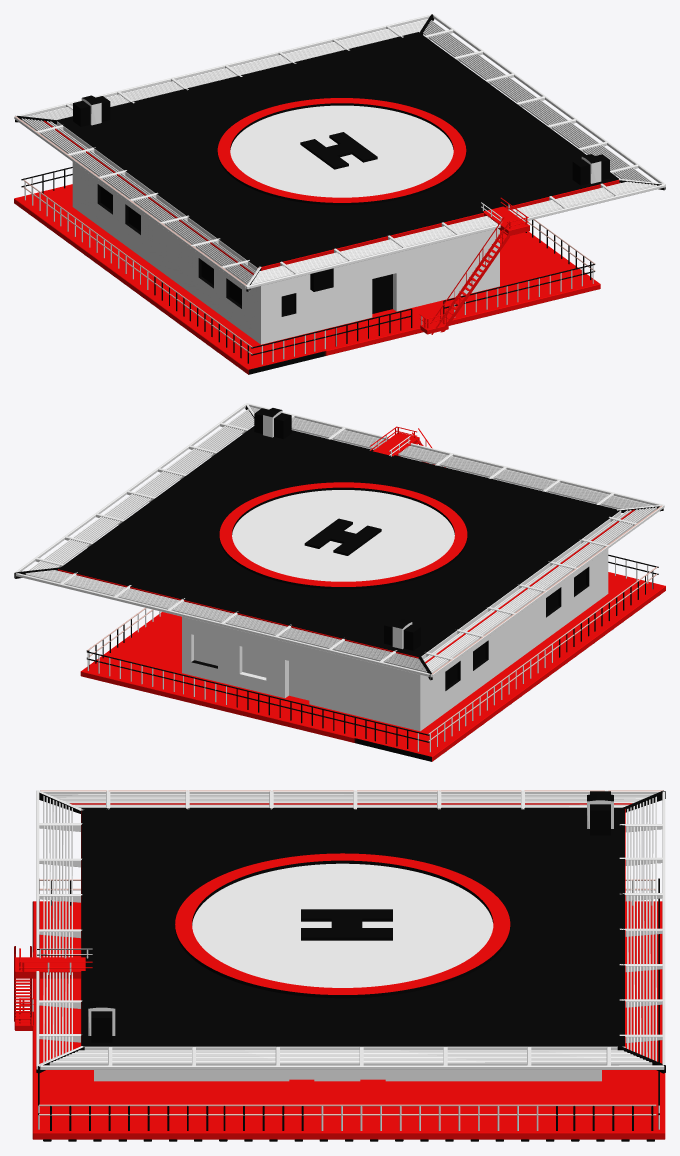
3 renders of one model, top to bottom at view 1: azimuth 30°, elevation 25°; view 2: azimuth 150°, elevation 25°; view 3: azimuth 270°, elevation 25°, orthographic. The views are drawn at different scales.
Visible parts, largest first — view 1: f_unit_17; view 2: f_unit_17; view 3: f_unit_17.
Part boxes in pixels (bbox=[...]): f_unit_17: bbox=[14, 14, 665, 374]; f_unit_17: bbox=[14, 403, 665, 761]; f_unit_17: bbox=[14, 790, 665, 1141].
Size of the model in its own units: 39.87 by 9.97 by 39.77.
